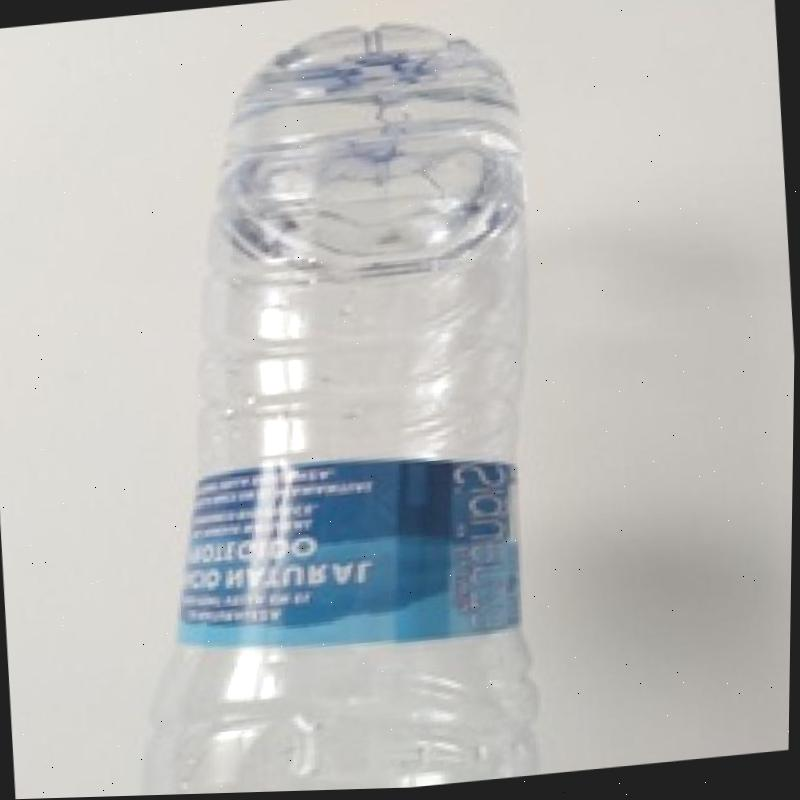botella: (93, 10, 570, 798)
